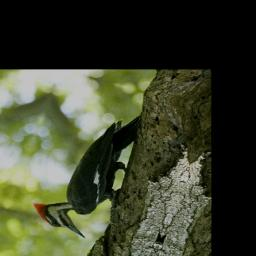Woodpecker: (26, 97, 150, 243)
